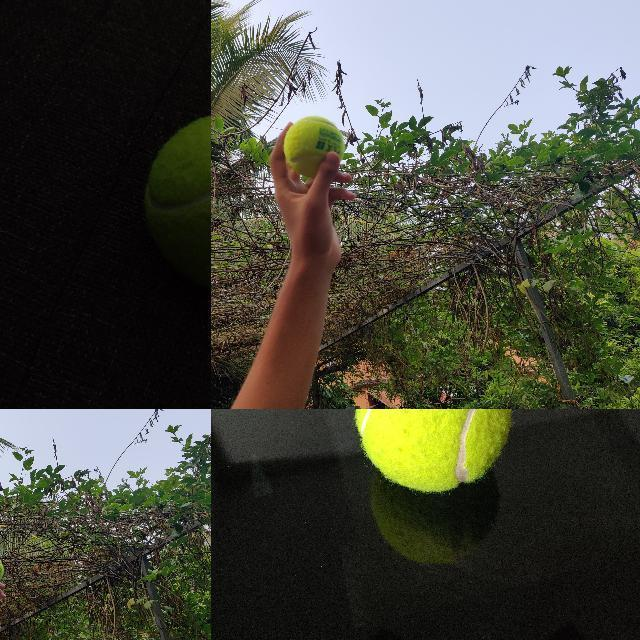tennis-ball: (352, 409, 514, 494), (143, 113, 210, 292), (283, 116, 345, 178)
